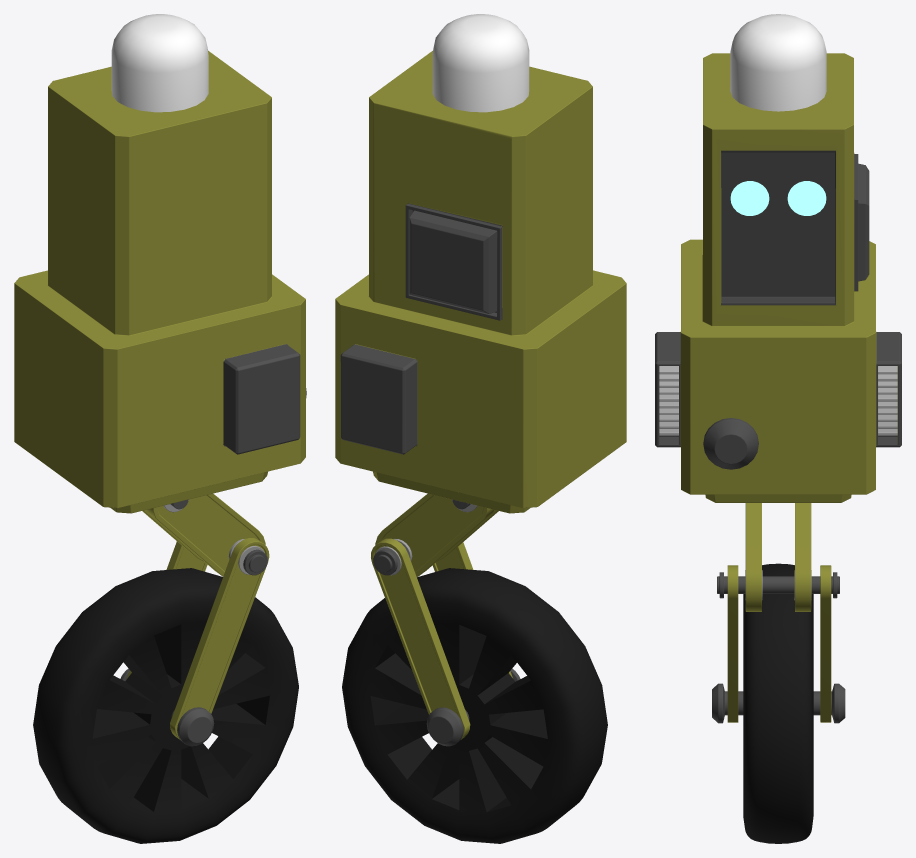
File: robot1.fbx
The picture shows the model from 3 angles, left to right: view 1: azimuth 30°, elevation 25°; view 2: azimuth 150°, elevation 25°; view 3: azimuth 270°, elevation 25°; orthographic projection.
Parts seen in each view (by area): view 1: base, tire, rugozo, lámpa; view 2: base, tire, rugozo, lámpa; view 3: base, tire, rugozo, lámpa.
Part boxes in pixels (x1,y1,x2,y2): base: (14, 50, 306, 513); tire: (33, 568, 298, 843); rugozo: (120, 493, 269, 746); lámpa: (111, 14, 208, 112); base: (335, 51, 626, 513); tire: (342, 568, 607, 843); rugozo: (371, 493, 520, 746); lámpa: (432, 14, 529, 112); base: (655, 53, 901, 502); tire: (743, 563, 813, 843); rugozo: (712, 503, 845, 723); lámpa: (730, 14, 826, 111).
Size of the model in its own units: 134 by 422 by 117.
